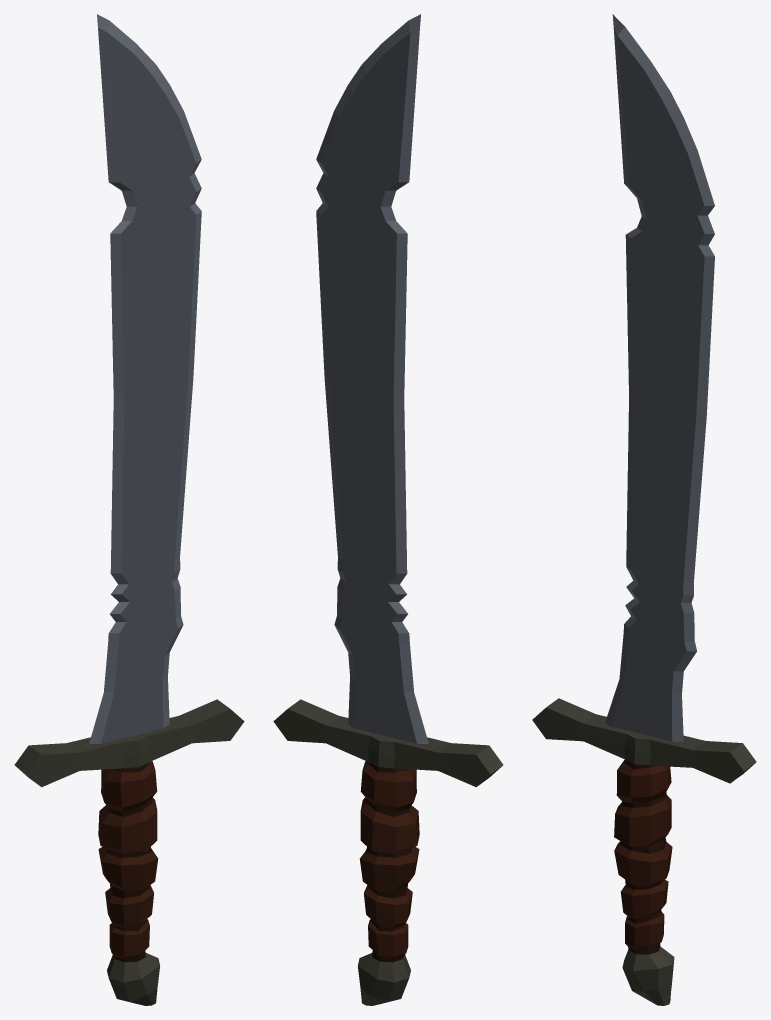
Rendered from Sword_2.glb.
3 renders of one model, left to right at view 1: azimuth 30°, elevation 25°; view 2: azimuth 150°, elevation 25°; view 3: azimuth 330°, elevation 25°, orthographic. The views are drawn at different scales.
Visible parts, largest first — view 1: Sword_2; view 2: Sword_2; view 3: Sword_2.
Boxes of the visible parts, x1,y1,x2,y2 form: Sword_2: [14, 14, 244, 1005]; Sword_2: [273, 14, 503, 1005]; Sword_2: [532, 14, 756, 1005].
Bounding box in the file's own units: 122 × 536 × 31.04.
